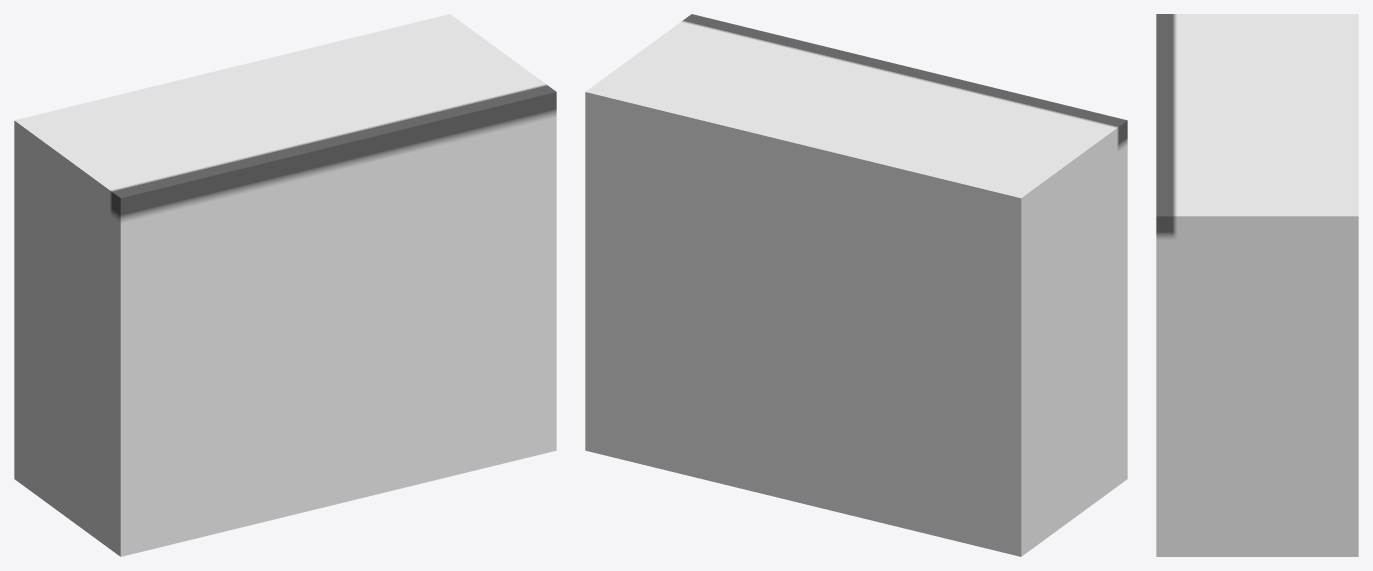
File: WallSide.fbx
3 renders of one model, left to right at view 1: azimuth 30°, elevation 25°; view 2: azimuth 150°, elevation 25°; view 3: azimuth 270°, elevation 25°, orthographic. The views are drawn at different scales.
Visible parts, largest first — view 1: WallSide; view 2: WallSide; view 3: WallSide.
Part boxes in pixels (<box>): WallSide: <box>14,14,556,556</box>; WallSide: <box>585,14,1127,556</box>; WallSide: <box>1156,14,1358,556</box>.
Size of the model in its own units: 0.6302 by 0.4954 by 0.2667.
